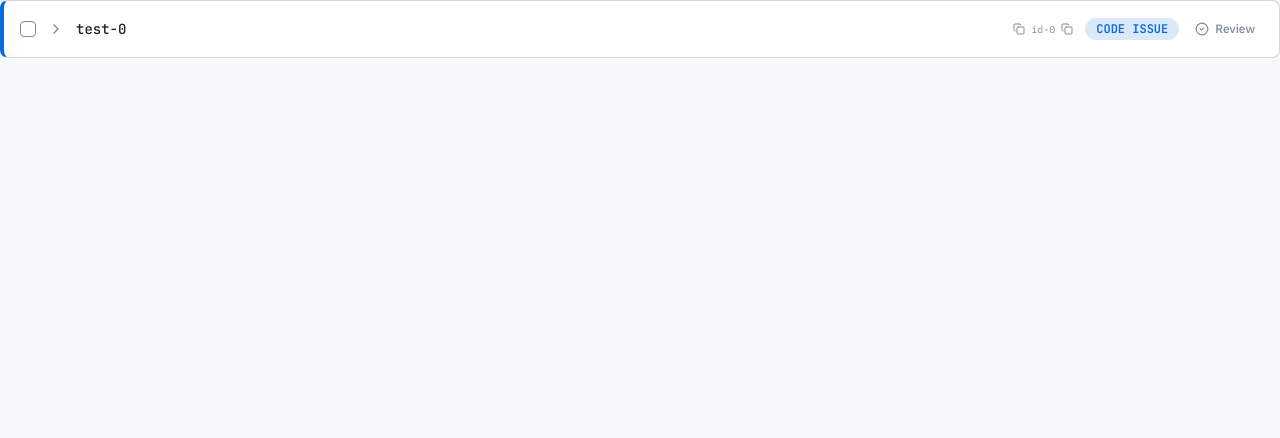
FailureCard primary usage › shows a $0.00 floor, marked as a lower bound, when cost is unpriced
Click the button "test-0".
click(101, 29)  # box [48,19,1001,39]
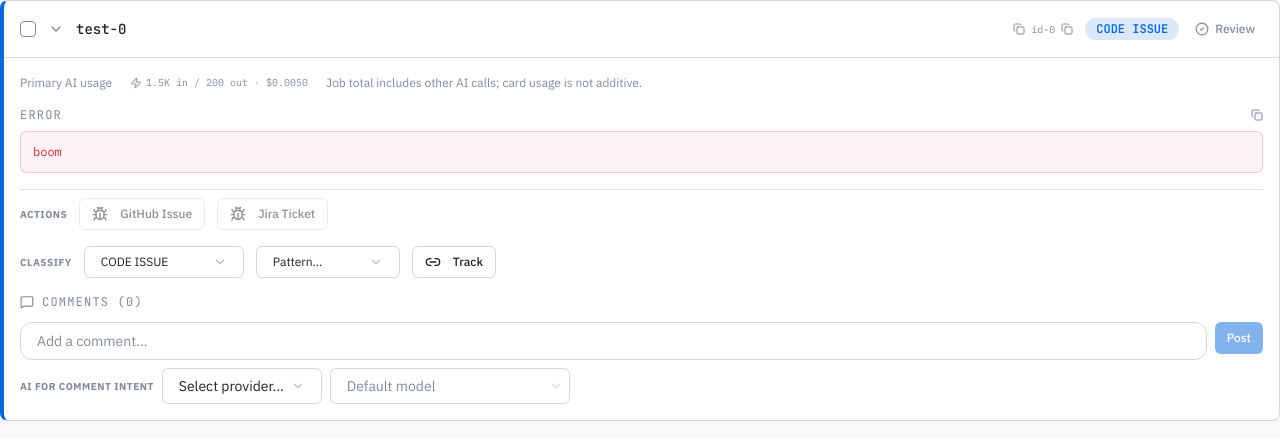
Result: the text "1.5K in / 200 out · $0.0050" is shown at [120,74,318,91]
